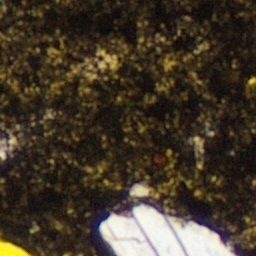cement_matrix: (0, 0, 255, 255), (131, 184, 150, 199), (102, 56, 114, 66)
cracks: (0, 238, 33, 255)
gravel_crushed_stones: (104, 208, 232, 255), (132, 185, 149, 198), (0, 140, 10, 158), (103, 57, 113, 65)
